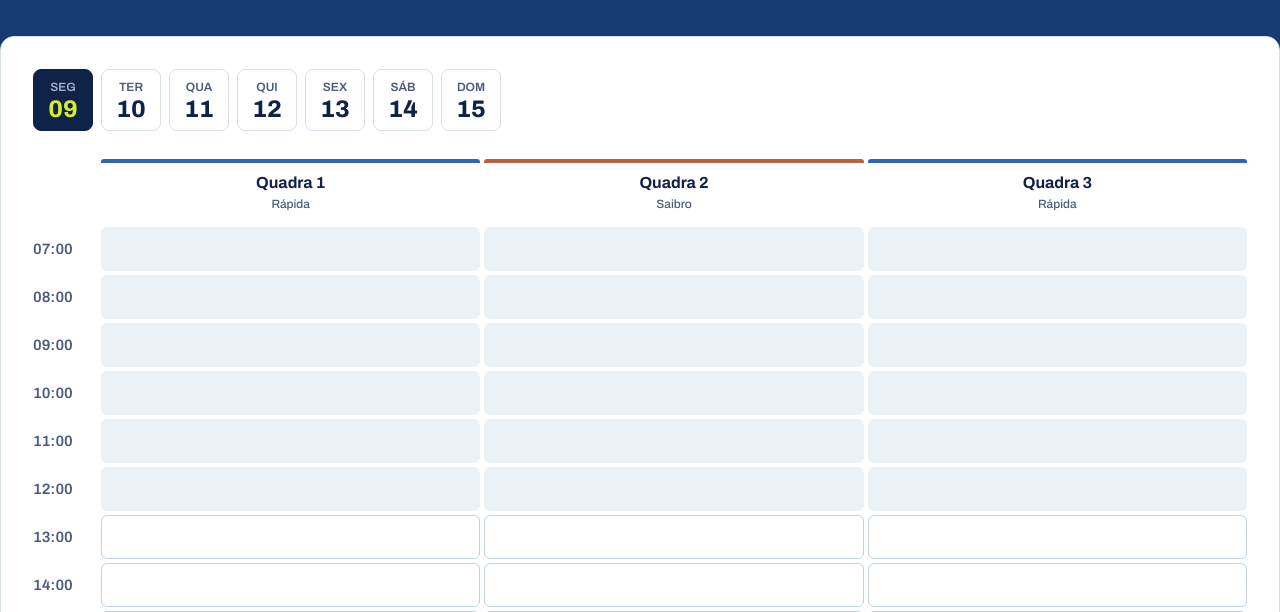
Scenario: SchedulePage › mostra os estados com rótulos acessíveis
Click the button "TER 10": (131, 100) left=101, top=69, right=161, bottom=132
(page scrolled)
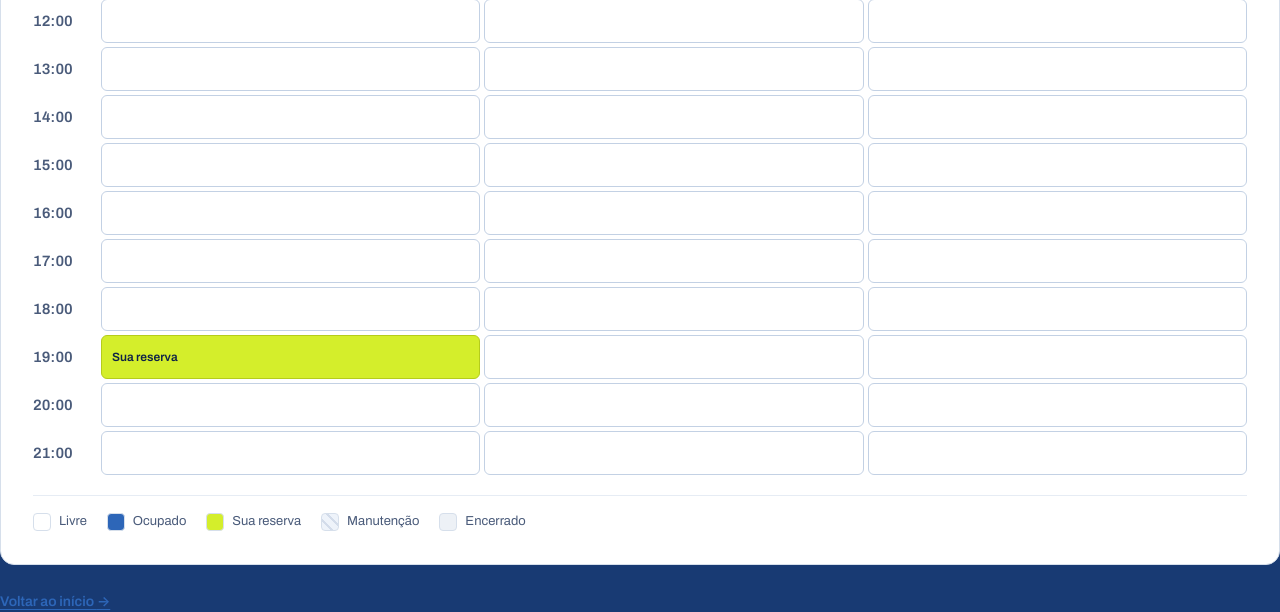
Expected: the button named "Quadra 2, 19:00, livre" is shown, left=484, top=336, right=864, bottom=380
Expected: the button named "Quadra 1, 19:00, sua reserva" is shown, left=101, top=336, right=480, bottom=380
